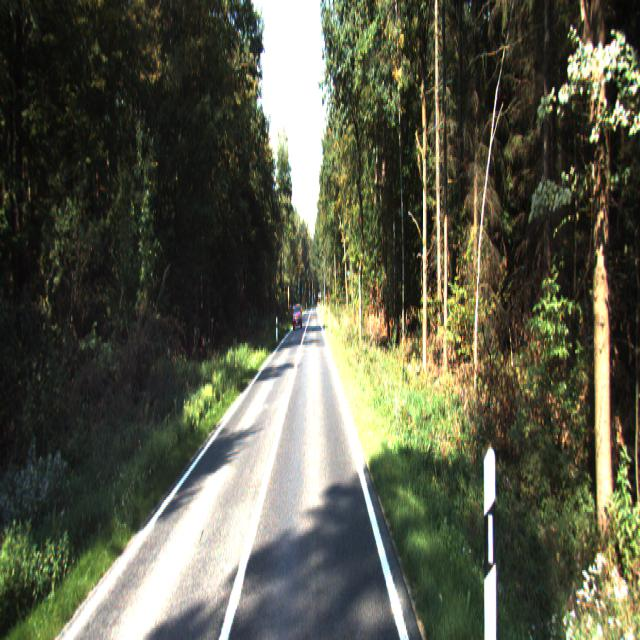Car: (293, 306, 302, 331)
